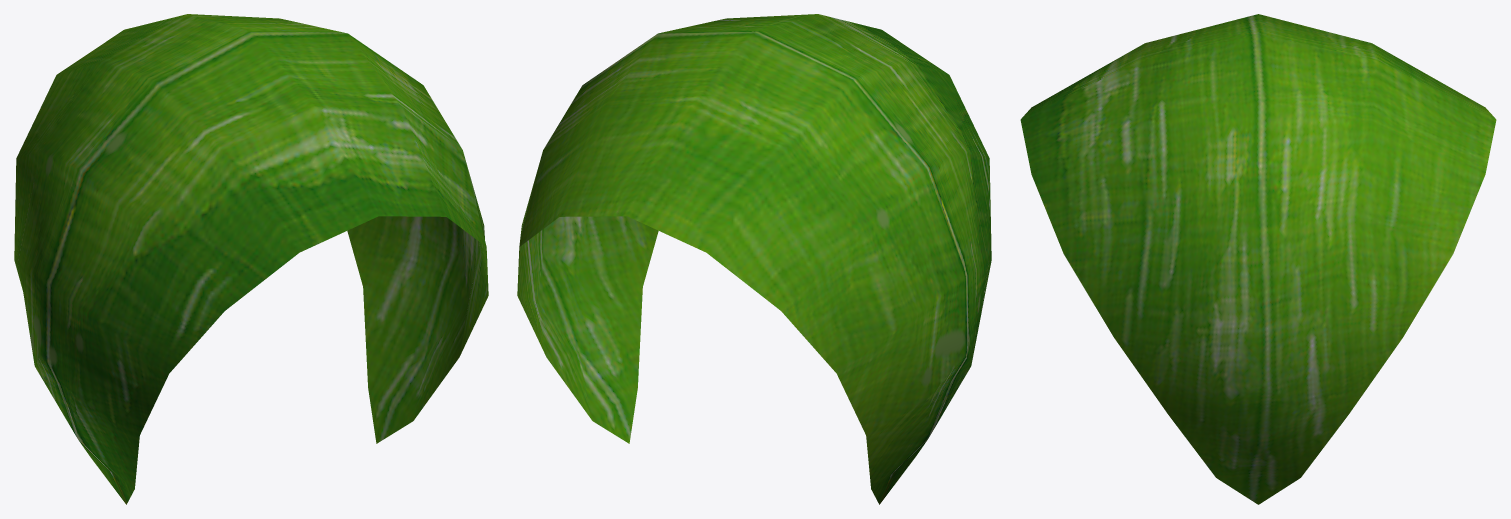
The model's file is Glider.fbx.
3 renders of one model, left to right at view 1: azimuth 30°, elevation 25°; view 2: azimuth 150°, elevation 25°; view 3: azimuth 270°, elevation 25°, orthographic. The views are drawn at different scales.
Visible parts, largest first — view 1: Glider; view 2: Glider; view 3: Glider.
Boxes of the visible parts, <box> form: Glider: <box>14,14,488,504</box>; Glider: <box>517,14,991,504</box>; Glider: <box>1020,14,1496,504</box>.
Bounding box in the file's own units: 1.22 × 1.22 × 1.28.
